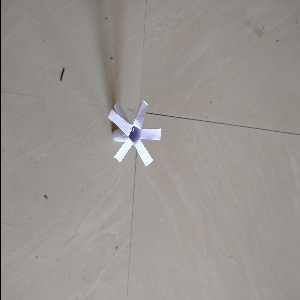weed: (104, 99, 163, 169)
